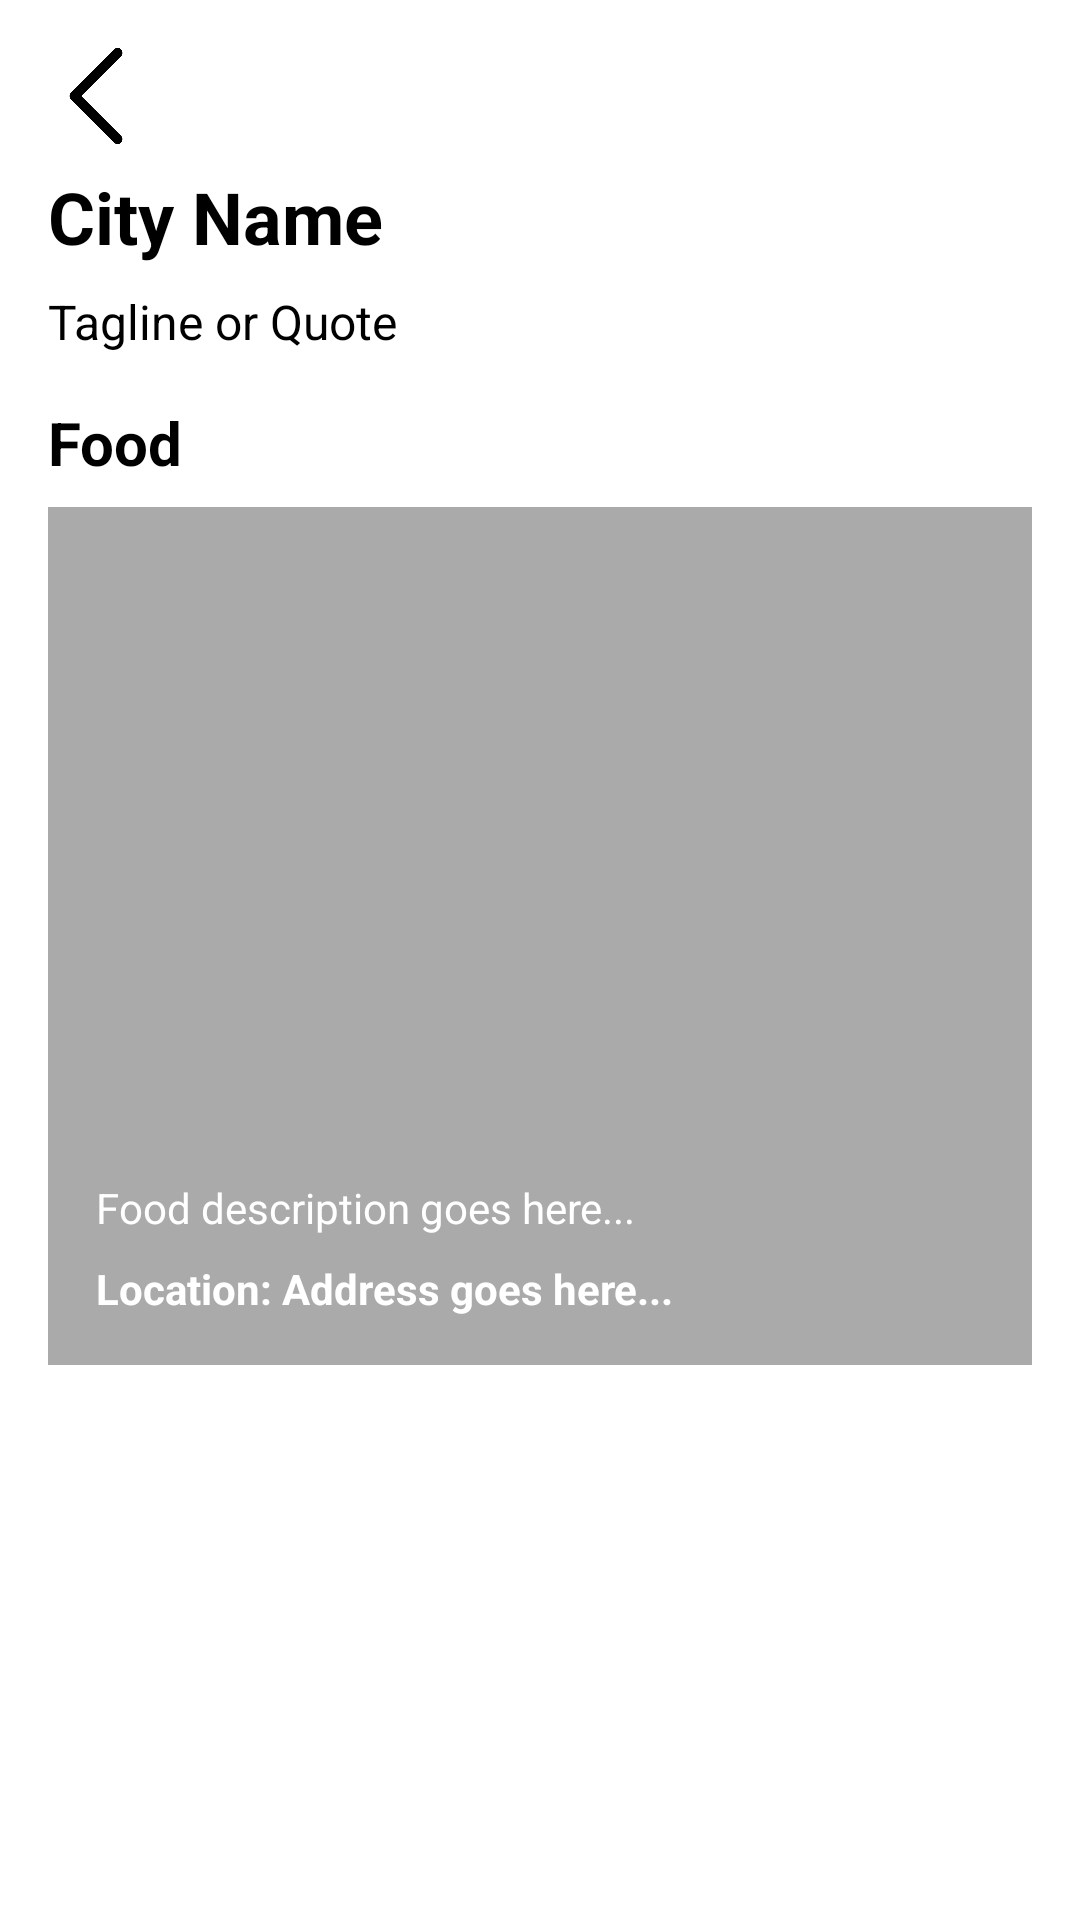

Screen size 1080px x 1920px. Icon name, then its box in pixels as (x1, y1, x2, y2):
Back Button: (69, 48, 123, 144)
